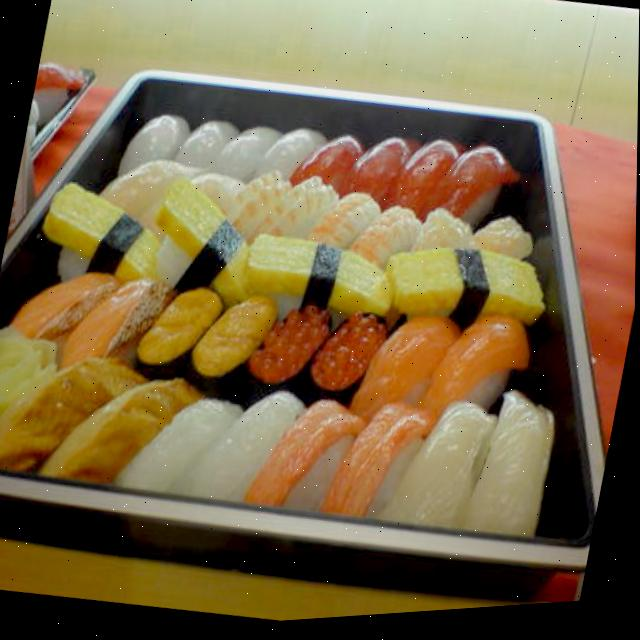寿司卷物: (0, 23, 588, 566)
